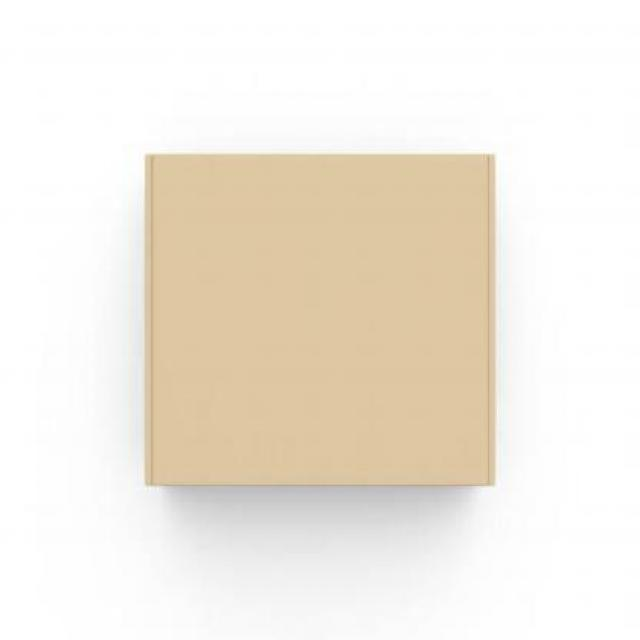box: (139, 139, 501, 497)
